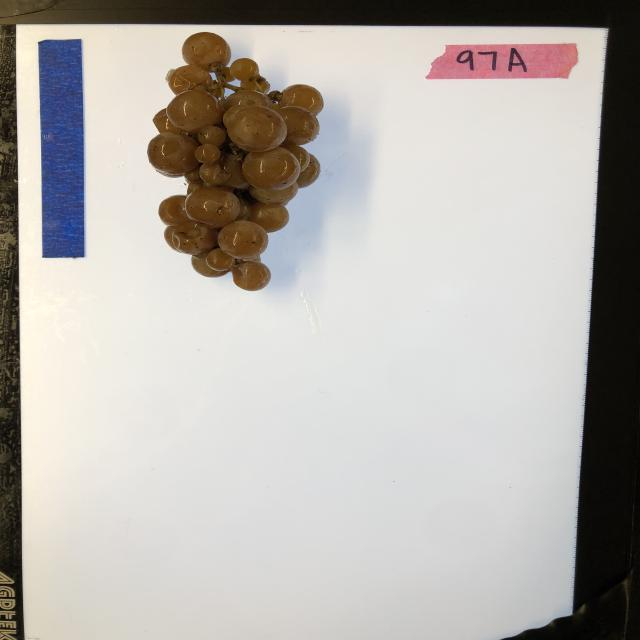grape_cluster: (147, 30, 325, 291)
index: (425, 42, 579, 81)
measure_label: (37, 37, 87, 260)
